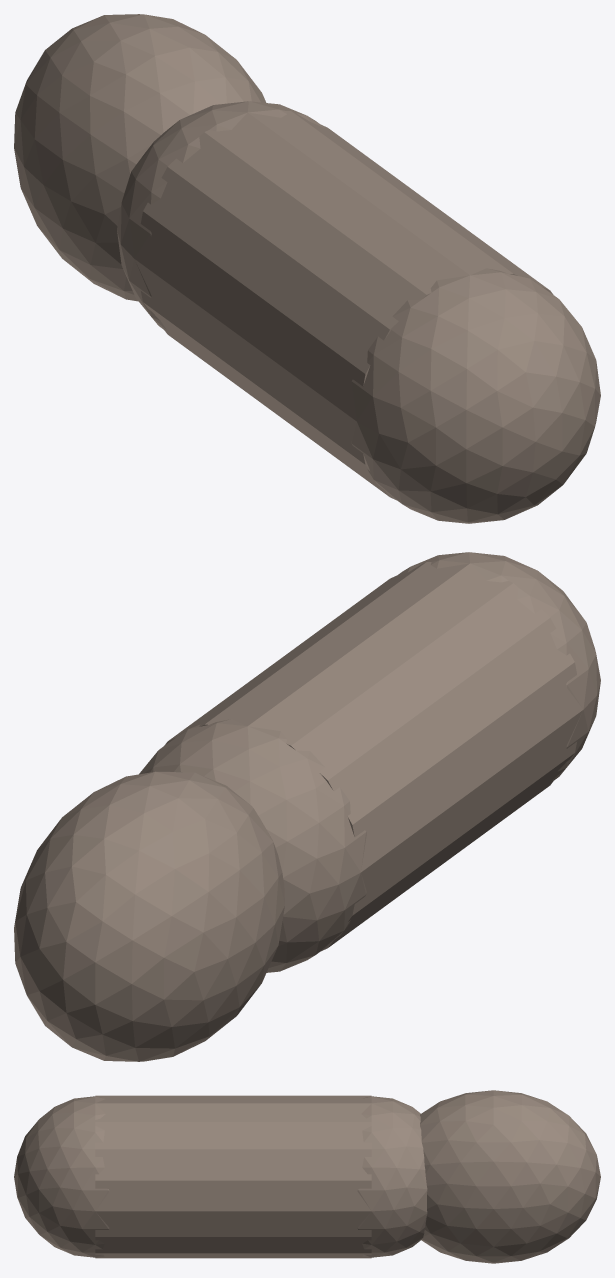
File: windman_right_lower_arm.glb
The picture shows the model from 3 angles, top to bottom: view 1: azimuth 30°, elevation 25°; view 2: azimuth 150°, elevation 25°; view 3: azimuth 270°, elevation 25°; orthographic projection. The views are drawn at different scales.
Parts seen in each view (by area): view 1: geometry_0; view 2: geometry_0; view 3: geometry_0.
Boxes of the visible parts, x1,y1,x2,y2 form: geometry_0: (14,14,600,523); geometry_0: (14,552,600,1061); geometry_0: (14,1090,600,1263).
Size of the model in its own units: 0.1 by 0.11 by 0.361.
